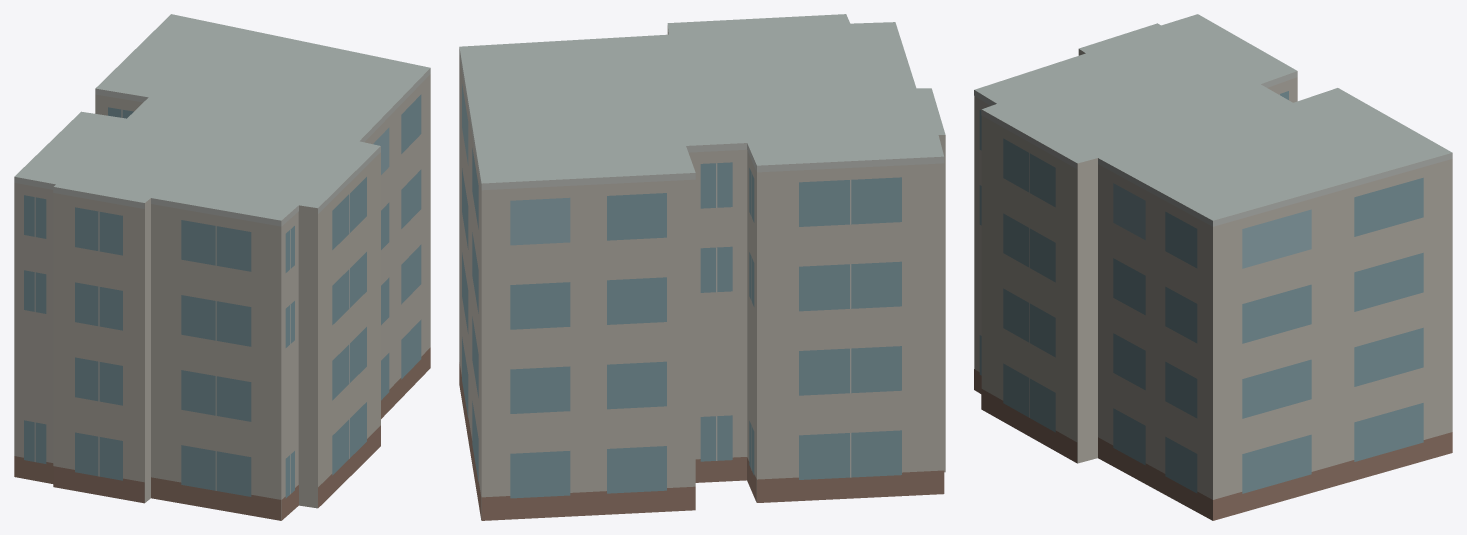
The model's file is survey-upis-32641850.glb.
3 views of the same model, side by side, from view 1: azimuth 30°, elevation 25°; view 2: azimuth 150°, elevation 25°; view 3: azimuth 270°, elevation 25° (orthographic). The views are drawn at different scales.
Parts seen in each view (by area): view 1: survey-upis-32641850.tmp; view 2: survey-upis-32641850.tmp; view 3: survey-upis-32641850.tmp.
Boxes of the visible parts, x1,y1,x2,y2 form: survey-upis-32641850.tmp: (14,14,430,520); survey-upis-32641850.tmp: (459,14,945,520); survey-upis-32641850.tmp: (974,14,1452,520).
Bounding box in the file's own units: 18.04 × 12.2 × 17.64.
